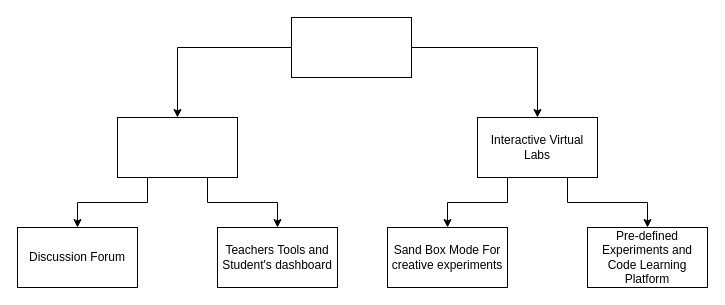
Image size: 725x305. Some labels were removed from this diagram. Here are the shapes that lost their labels. From the top down, the centre of each, then its label:
the point at 351,47: LabXplorer
the point at 177,147: User Management and Collabration
